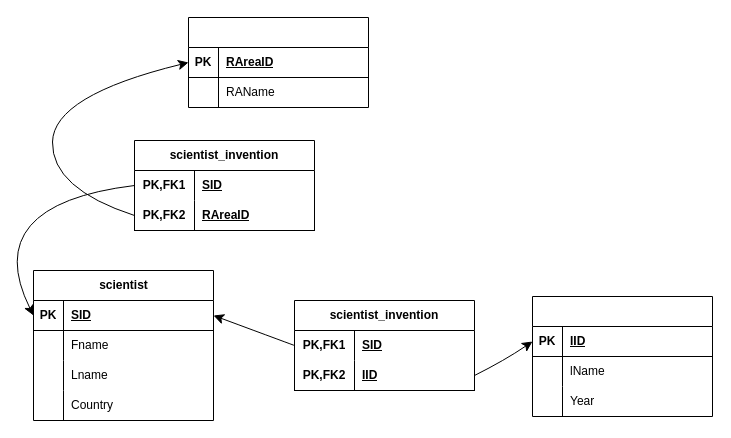
This 731x438 diagram has some shape labels left out. Each missing label, with the box of its shape:
Invention: (532, 296, 712, 416)
Research_area: (188, 16, 368, 108)
